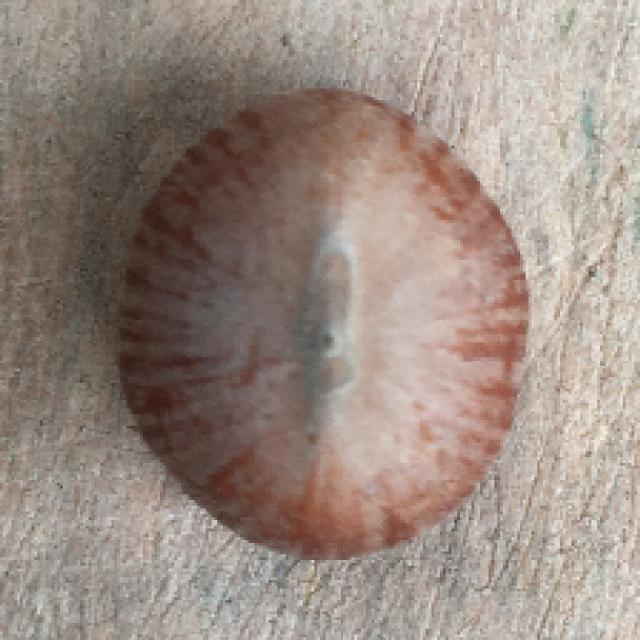qualityHazelnut: (114, 88, 535, 561)
